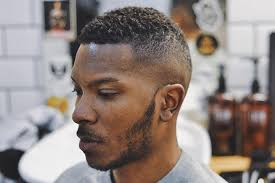black_male: (63, 19, 195, 176)
